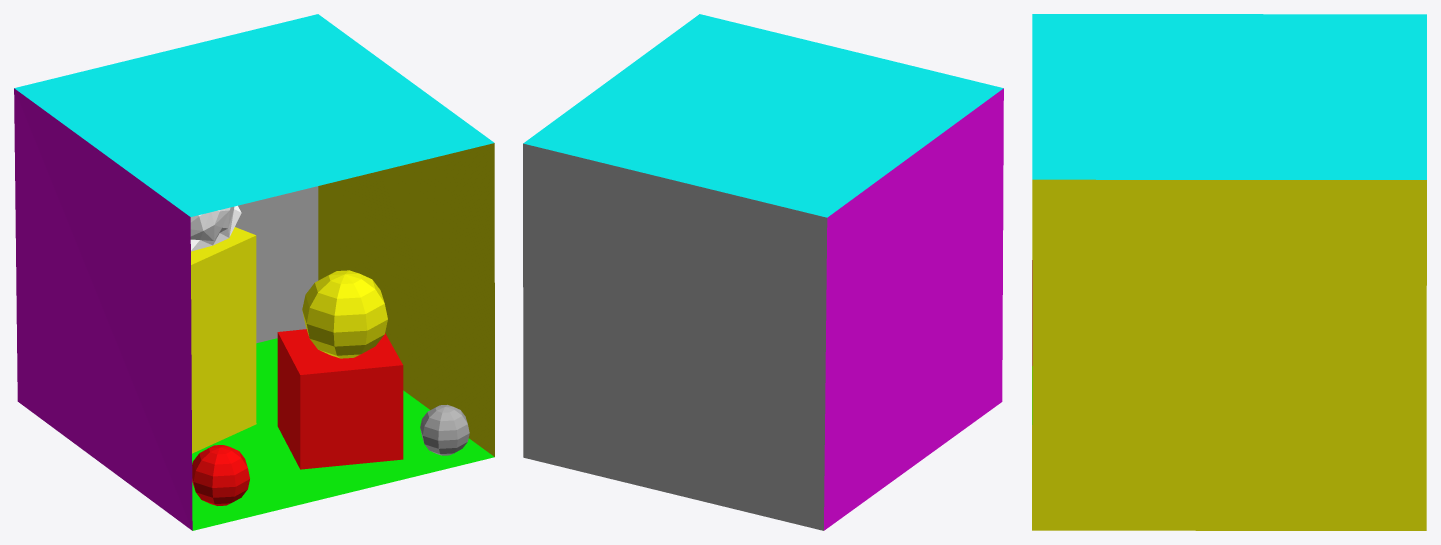
File: cornell-box2.obj
The picture shows the model from 3 angles, left to right: view 1: azimuth 30°, elevation 25°; view 2: azimuth 150°, elevation 25°; view 3: azimuth 270°, elevation 25°; orthographic projection. The views are drawn at different scales.
Parts seen in each view (by area): view 1: left_wall, ceiling, right_wall, short_box, floor, tall_box, back_wall, sphere, sphere2, sphere3, bunny; view 2: back_wall, left_wall, ceiling; view 3: right_wall, ceiling.
Boxes of the visible parts, box(x1,y1,x2,y2) form: left_wall: box(14, 88, 192, 530); ceiling: box(14, 14, 494, 216); right_wall: box(318, 143, 494, 456); short_box: box(277, 329, 403, 469); floor: box(192, 338, 494, 530); tall_box: box(191, 227, 256, 453); back_wall: box(235, 186, 318, 343); sphere: box(302, 270, 387, 358); sphere2: box(192, 445, 249, 505); sphere3: box(420, 404, 469, 455); bunny: box(190, 205, 241, 251); back_wall: box(523, 143, 827, 530); left_wall: box(824, 88, 1003, 530); ceiling: box(523, 14, 1003, 217); right_wall: box(1032, 179, 1426, 530); ceiling: box(1032, 14, 1426, 179).
Bounding box in the file's own units: 5.56 × 5.49 × 5.6.
